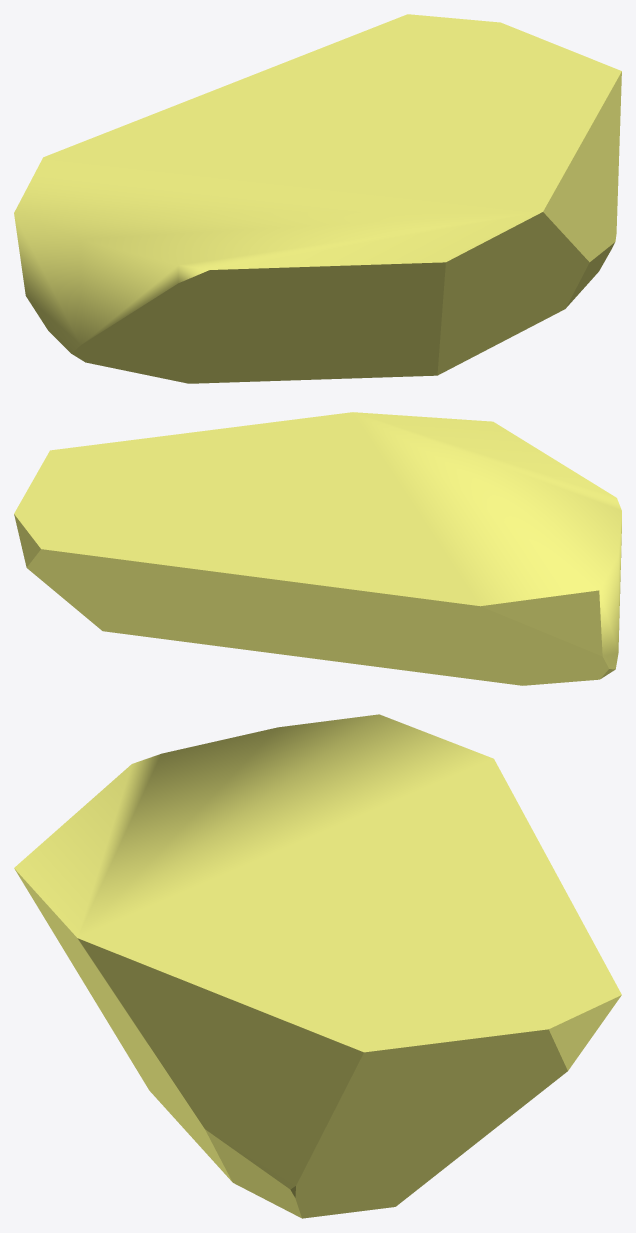
File: breakableCenter_cell_010.fbx
3 views of the same model, one above another, from view 1: azimuth 30°, elevation 25°; view 2: azimuth 150°, elevation 25°; view 3: azimuth 270°, elevation 25° (orthographic). The views are drawn at different scales.
Parts seen in each view (by area): view 1: breakableCenter_cell.010; view 2: breakableCenter_cell.010; view 3: breakableCenter_cell.010.
Boxes of the visible parts, box(x1,y1,x2,y2) form: breakableCenter_cell.010: box(14, 14, 621, 383); breakableCenter_cell.010: box(14, 412, 621, 685); breakableCenter_cell.010: box(14, 714, 621, 1218).
Bounding box in the file's own units: 52.81 × 14.14 × 40.13.
